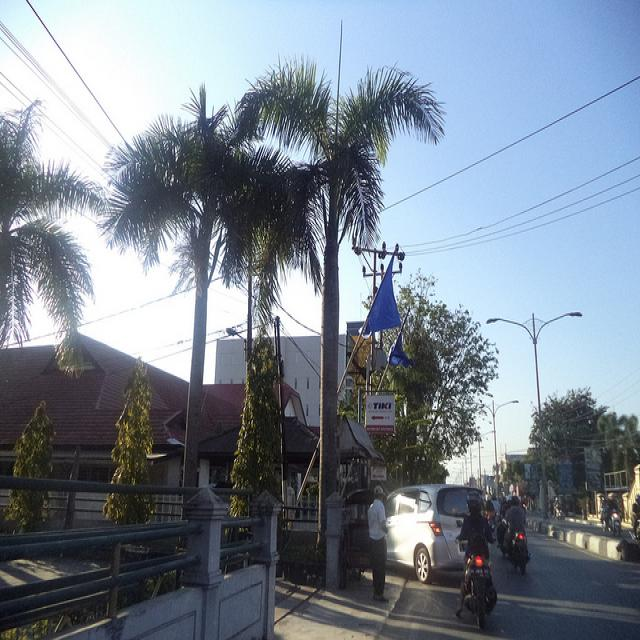motor: (455, 520, 497, 630), (508, 531, 528, 577)
